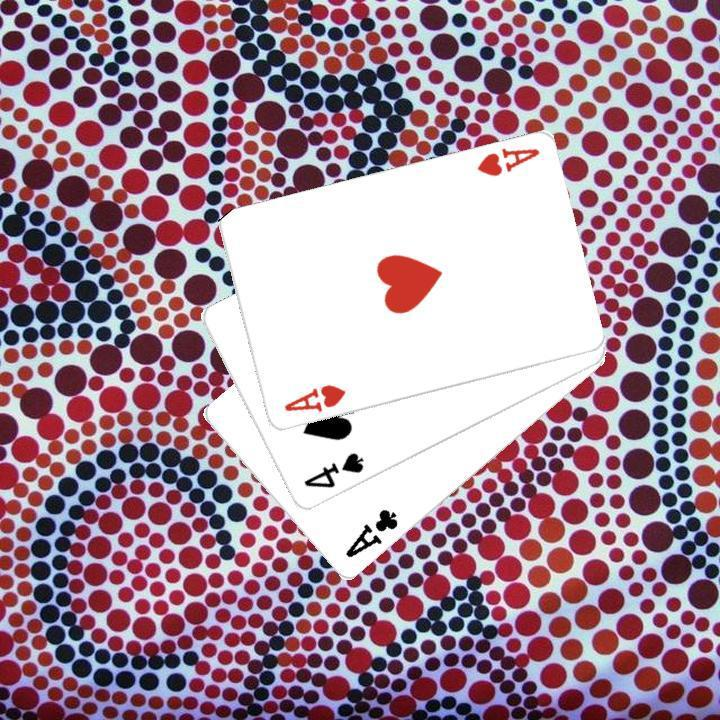4: (299, 448, 366, 491)
A: (340, 505, 400, 561), (279, 380, 348, 415), (472, 144, 541, 179)
